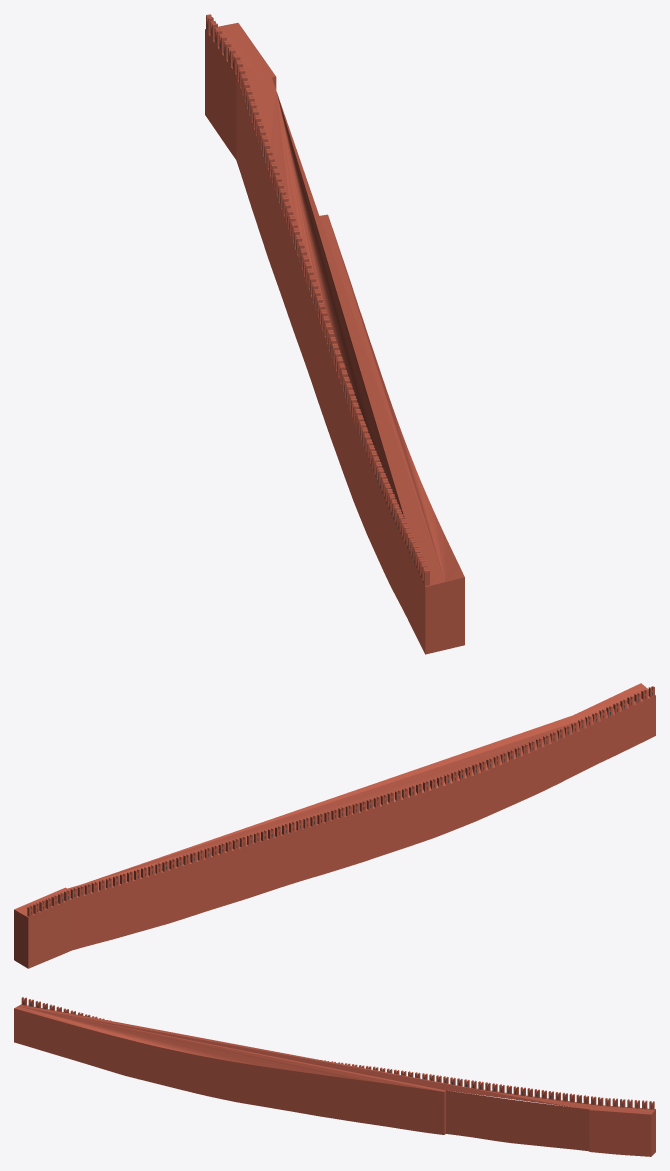
The model's file is moscow-kremlin-wall-trinity-commandants.glb.
3 renders of one model, top to bottom at view 1: azimuth 30°, elevation 25°; view 2: azimuth 150°, elevation 25°; view 3: azimuth 270°, elevation 25°, orthographic. The views are drawn at different scales.
Parts seen in each view (by area): view 1: Kremlin Wall, Trinity Tower to Commandant's Tower; view 2: Kremlin Wall, Trinity Tower to Commandant's Tower; view 3: Kremlin Wall, Trinity Tower to Commandant's Tower.
Boxes of the visible parts, x1=… form: Kremlin Wall, Trinity Tower to Commandant's Tower: x1=205, y1=14, x2=464, y2=654; Kremlin Wall, Trinity Tower to Commandant's Tower: x1=14, y1=683, x2=655, y2=968; Kremlin Wall, Trinity Tower to Commandant's Tower: x1=14, y1=997, x2=655, y2=1156.
Bounding box in the file's own units: 67.8 × 18.68 × 170.
